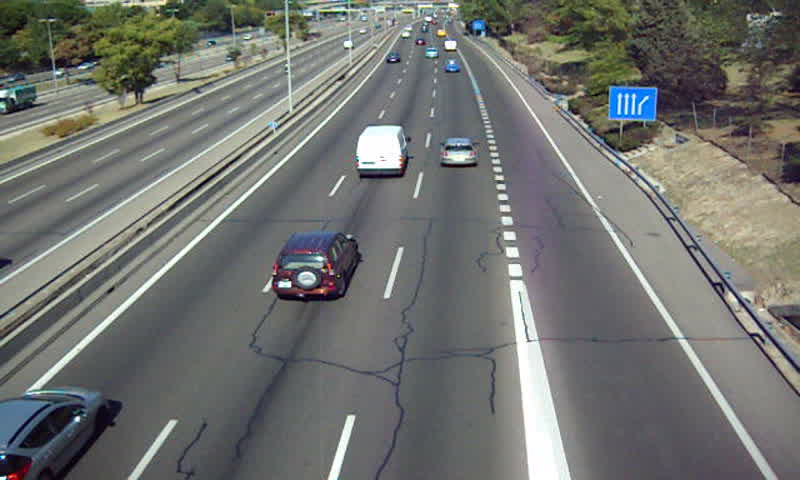car: (1, 388, 107, 479), (273, 232, 357, 299), (441, 138, 477, 167), (443, 58, 461, 74), (387, 52, 401, 64)
van: (356, 126, 408, 177)
